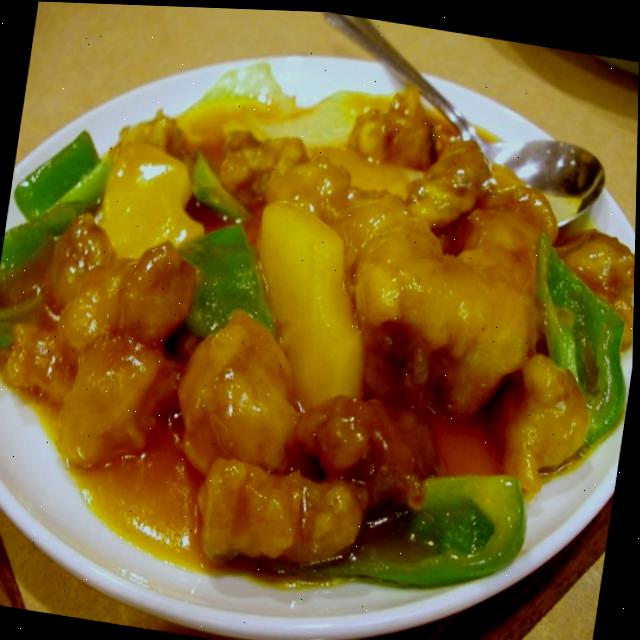猪肉菜式: (0, 20, 640, 628)
